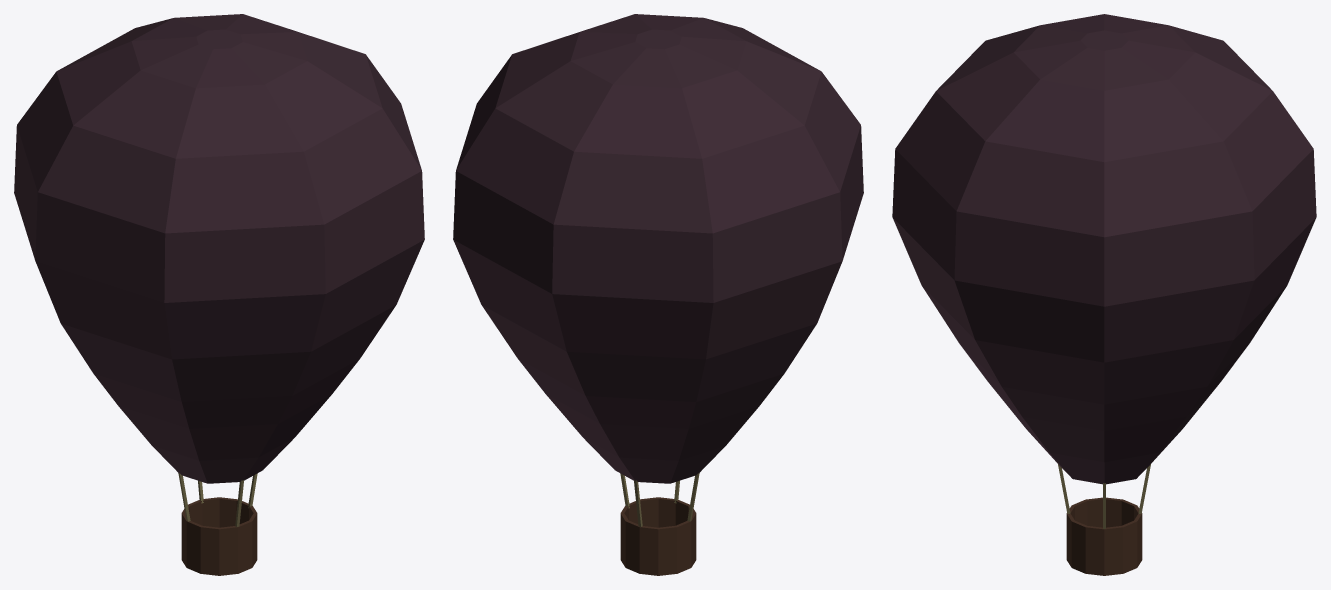
File: Balloon.fbx
3 views of the same model, side by side, from view 1: azimuth 30°, elevation 25°; view 2: azimuth 150°, elevation 25°; view 3: azimuth 270°, elevation 25° (orthographic).
Visible parts, largest first — view 1: Balloon; view 2: Balloon; view 3: Balloon.
Boxes of the visible parts, x1,y1,x2,y2 form: Balloon: (14,14,424,575); Balloon: (453,14,863,575); Balloon: (892,14,1316,575).
Size of the model in its own units: 520 by 703 by 520.
